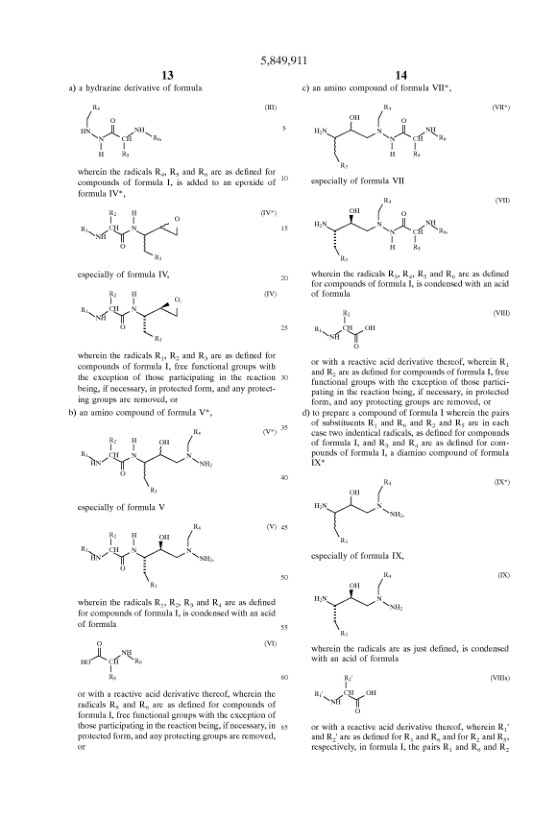compound-structure: (66, 523, 242, 589), (69, 426, 226, 496), (308, 100, 459, 171), (313, 193, 453, 264), (72, 202, 194, 266), (307, 470, 407, 543), (75, 285, 193, 344), (313, 567, 408, 639), (80, 99, 166, 161), (312, 668, 388, 716), (304, 307, 382, 350), (76, 638, 143, 681)
